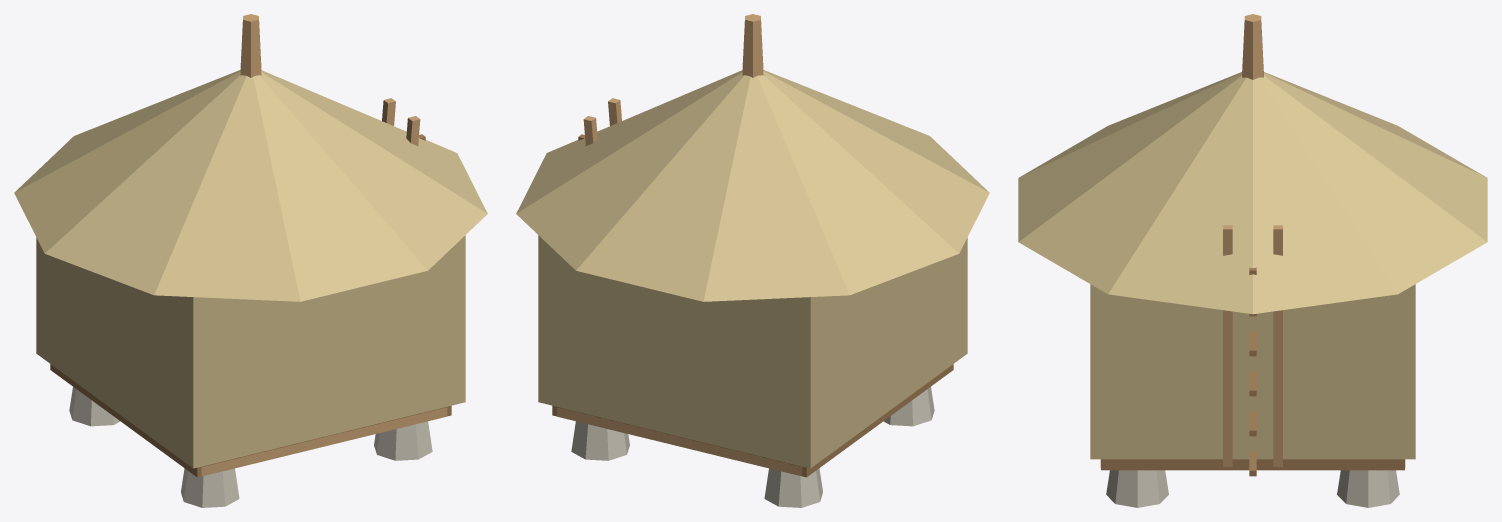
The model's file is hay-rick.glb.
3 views of the same model, side by side, from view 1: azimuth 30°, elevation 25°; view 2: azimuth 150°, elevation 25°; view 3: azimuth 270°, elevation 25° (orthographic). The views are drawn at different scales.
Parts seen in each view (by area): view 1: hay-rick; view 2: hay-rick; view 3: hay-rick.
Part boxes in pixels (box(x1,y1,x2,y2)): hay-rick: box(14, 14, 487, 507); hay-rick: box(516, 14, 989, 507); hay-rick: box(1018, 14, 1487, 507).
Size of the model in its own units: 4.7 by 4.5 by 4.47.
